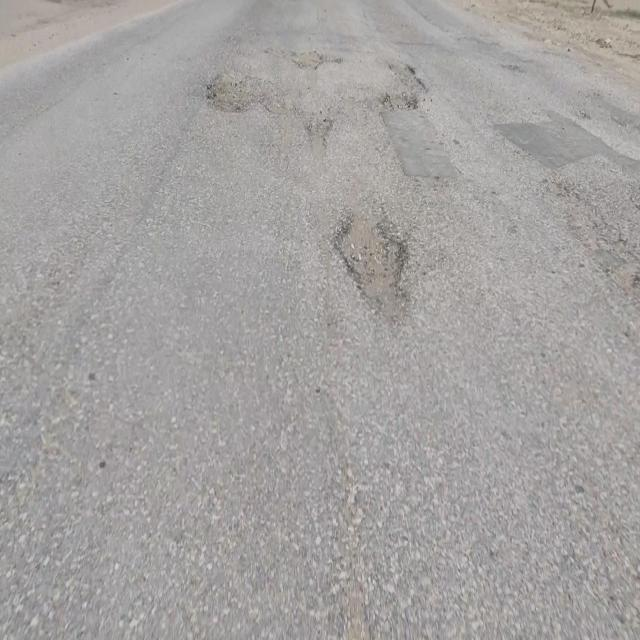Potholes: (333, 208, 413, 326), (203, 72, 265, 114), (383, 60, 428, 112), (290, 49, 341, 70)
